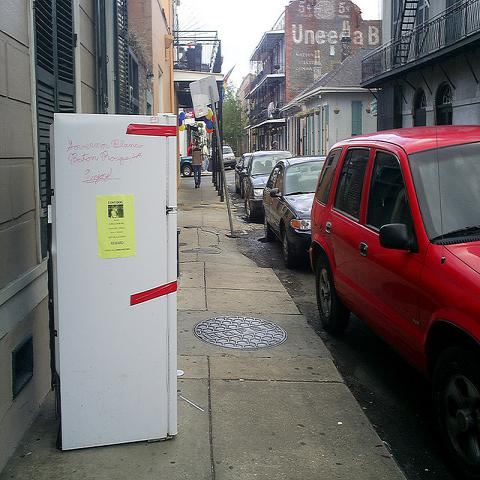car: (310, 125, 479, 474), (260, 153, 328, 269), (243, 151, 295, 222), (236, 153, 250, 192), (222, 146, 237, 170), (178, 154, 193, 177)
